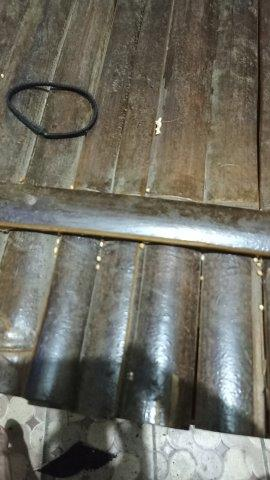karet: (6, 82, 99, 139)
